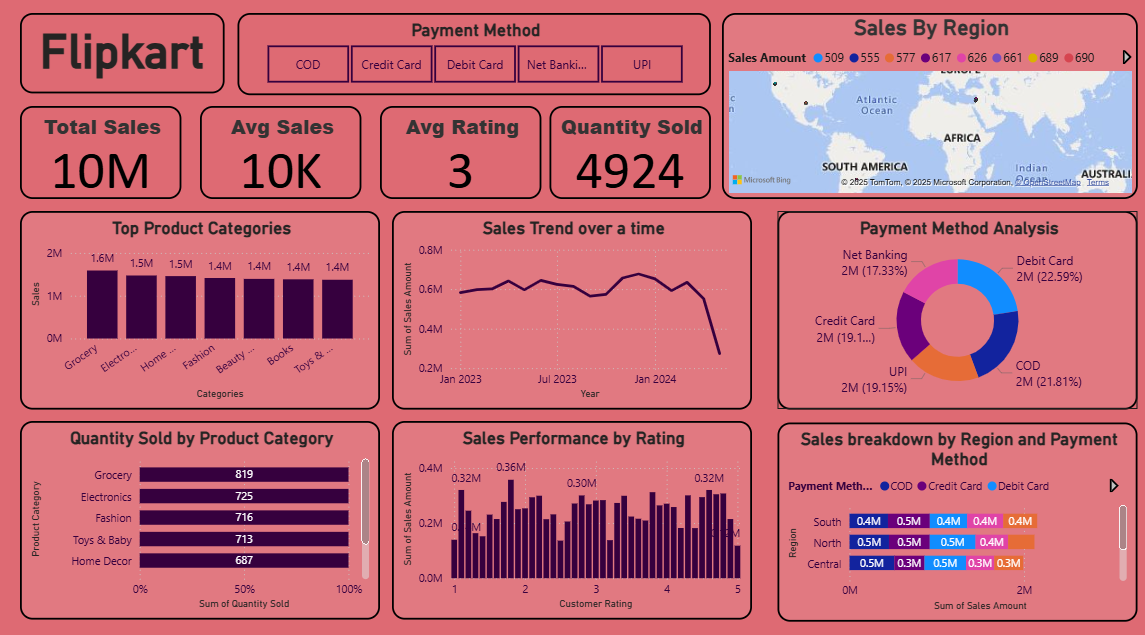

The dashboard page shown, as its layout file describes it:
{"tool":"powerbi","page":{"name":"Sales Dashboard","canvas":[1280,720],"ordinal":0},"visuals":[{"type":"card","title":"Avg Sales","fields":{"Values":["Avg(Sheet1.Sales Amount)"]},"box":[225.9,120.7,179.3,103.4],"z":0},{"type":"card","title":"Quantity Sold","fields":{"Values":["Sum(Sheet1.Quantity Sold)"]},"box":[615.5,120.7,179.3,103.4],"z":1000},{"type":"card","title":"Avg Rating","fields":{"Values":["Avg(Sheet1.Customer Rating)"]},"box":[425.9,120.7,179.3,103.4],"z":2000},{"type":"card","title":"Total Sales","fields":{"Values":["Sum(Sheet1.Sales Amount)"]},"box":[25.9,120.7,179.3,103.4],"z":3000},{"type":"map","title":"Sales By Region","fields":{"Category":["Sheet1.Region"],"Series":["Sheet1.Sales Amount"]},"box":[806.9,17.2,462.1,206.9],"z":4000},{"type":"columnChart","title":"Top Product Categories","fields":{"Y":["Sum(Sheet1.Sales Amount)"],"Category":["Sheet1.Product Category"]},"box":[25.9,236.2,400,220.7],"z":5000},{"type":"lineChart","title":"Sales Trend over a time","fields":{"Category":["Sheet1.Order Date.Variation.Date Hierarchy.Year","Sheet1.Order Date.Variation.Date Hierarchy.Quarter","Sheet1.Order Date.Variation.Date Hierarchy.Month","Sheet1.Order Date.Variation.Date Hierarchy.Day"],"Y":["Sum(Sheet1.Sales Amount)"]},"box":[439.7,236.2,400,220.7],"z":6000},{"type":"donutChart","title":"Payment Method Analysis","fields":{"Category":["Sheet1.Payment Method"],"Y":["Sum(Sheet1.Sales Amount)"]},"box":[869,236.2,400,220.7],"z":7000},{"type":"hundredPercentStackedBarChart","title":"Quantity Sold by Product Category","fields":{"Category":["Sheet1.Product Category"],"Y":["Sum(Sheet1.Quantity Sold)"]},"box":[25.9,470.7,400,220.7],"z":8000},{"type":"clusteredColumnChart","title":"Sales Performance by Rating","fields":{"Category":["Sheet1.Customer Rating"],"Y":["Sum(Sheet1.Sales Amount)"]},"box":[439.7,470.7,400,220.7],"z":9000},{"type":"barChart","title":"Sales breakdown by Region and Payment Method","fields":{"Category":["Sheet1.Region"],"Y":["Sum(Sheet1.Sales Amount)"],"Series":["Sheet1.Payment Method"]},"box":[869,471,400,221],"z":10000},{"type":"slicer","title":"Payment Method","fields":{"Values":["Sheet1.Payment Method"]},"box":[269,17.2,525.9,91.4],"z":11000},{"type":"textbox","box":[25.9,17.2,227.6,89.7],"z":12000}]}

Visuals, with their boxes in screenshot pixels (x1, y1, x2, y2), scaled from the page's 1280x720 canvas onto the 1145x635 screenshot:
"Avg Sales" card: box=[202, 106, 362, 198]
"Quantity Sold" card: box=[551, 106, 711, 198]
"Avg Rating" card: box=[381, 106, 541, 198]
"Total Sales" card: box=[23, 106, 184, 198]
"Sales By Region" map: box=[722, 15, 1135, 198]
"Top Product Categories" columnChart: box=[23, 208, 381, 403]
"Sales Trend over a time" lineChart: box=[393, 208, 751, 403]
"Payment Method Analysis" donutChart: box=[777, 208, 1135, 403]
"Quantity Sold by Product Category" hundredPercentStackedBarChart: box=[23, 415, 381, 610]
"Sales Performance by Rating" clusteredColumnChart: box=[393, 415, 751, 610]
"Sales breakdown by Region and Payment Method" barChart: box=[777, 415, 1135, 610]
"Payment Method" slicer: box=[241, 15, 711, 96]
textbox: box=[23, 15, 227, 94]
